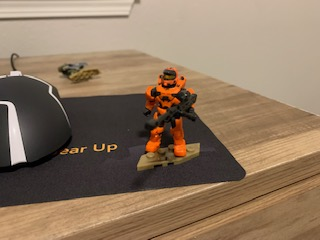spartan: (141, 68, 193, 158)
